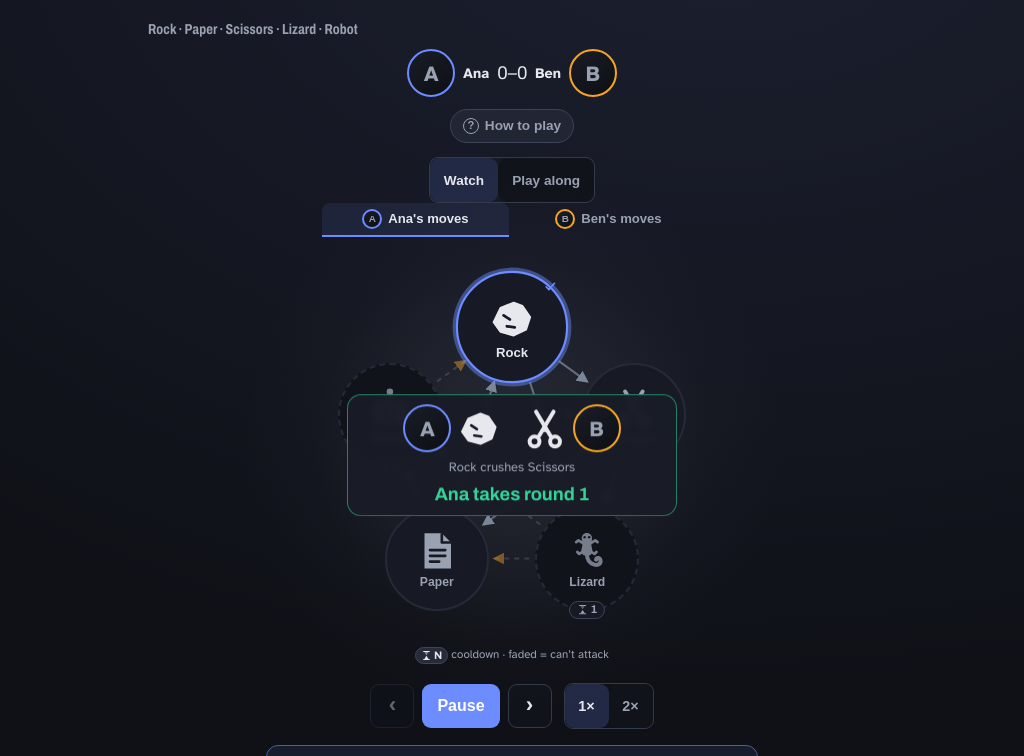
Test: <ReplayPage> play along › lets a round go by uncalled
This screenshot has width=1024, height=756.
expect the text "Ana" is shown: met, box [463,64,489,82]
Click the button "Play along" at (546, 180), box [498,158,594,202]
(page scrolled)
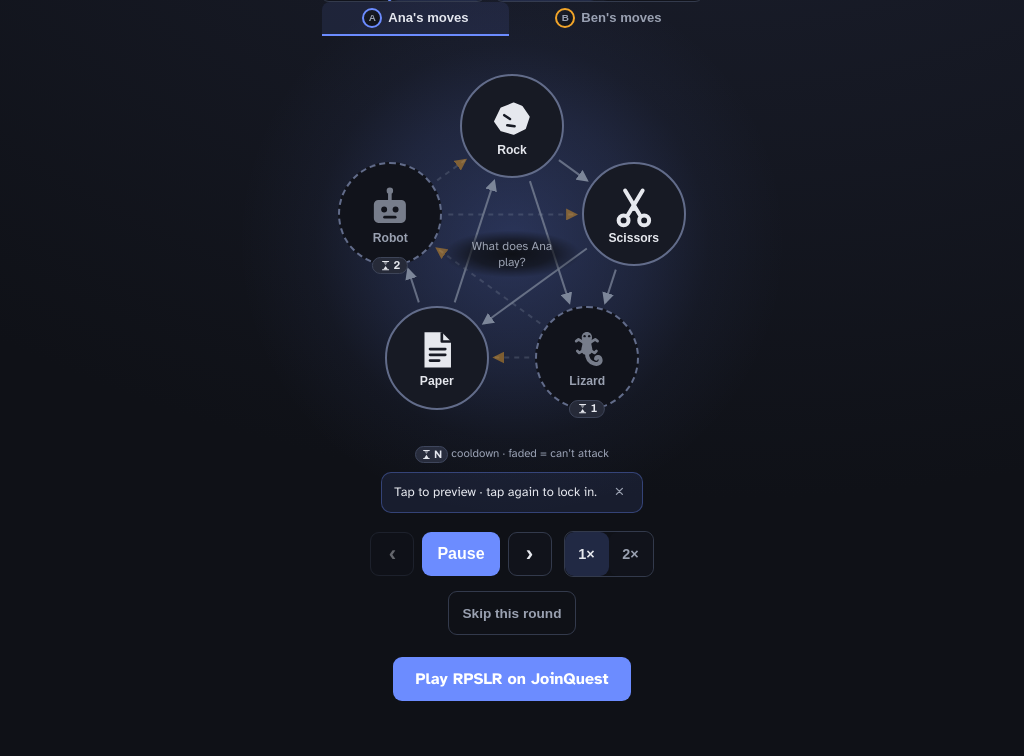
Click the button "Skip this round" at (512, 613), box [448,591,576,635]
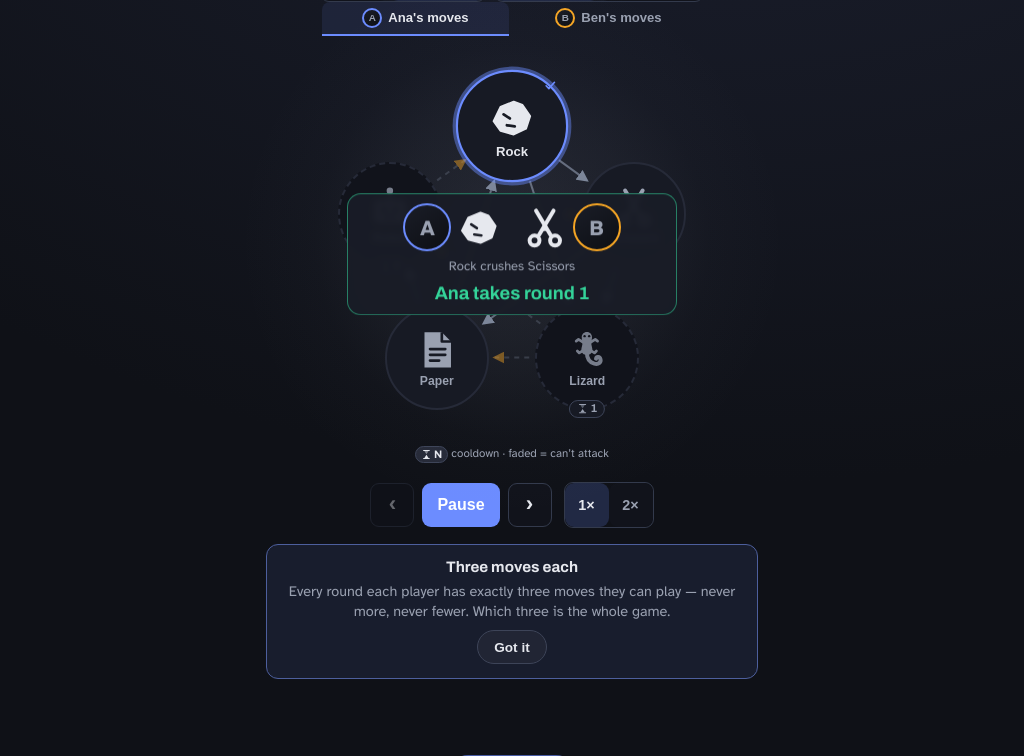
expect the element with class "reveal-card" is shown: met, box [347,193,677,315]
